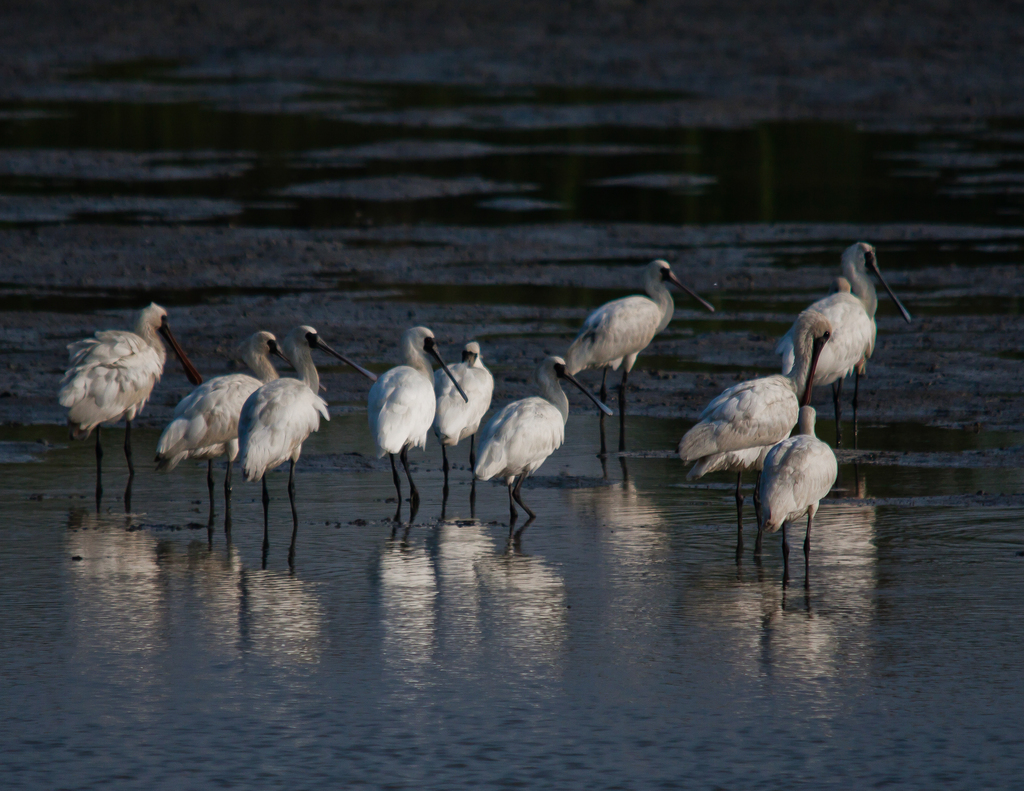Bird: (55, 239, 913, 594)
